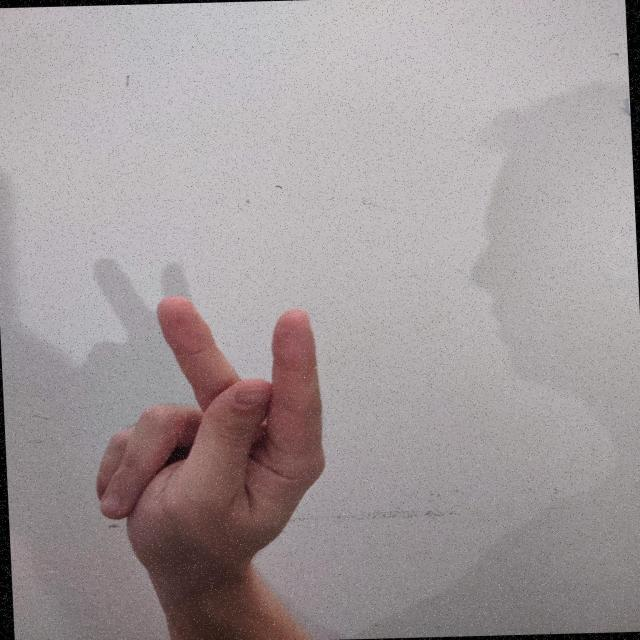K: (82, 284, 343, 598)
